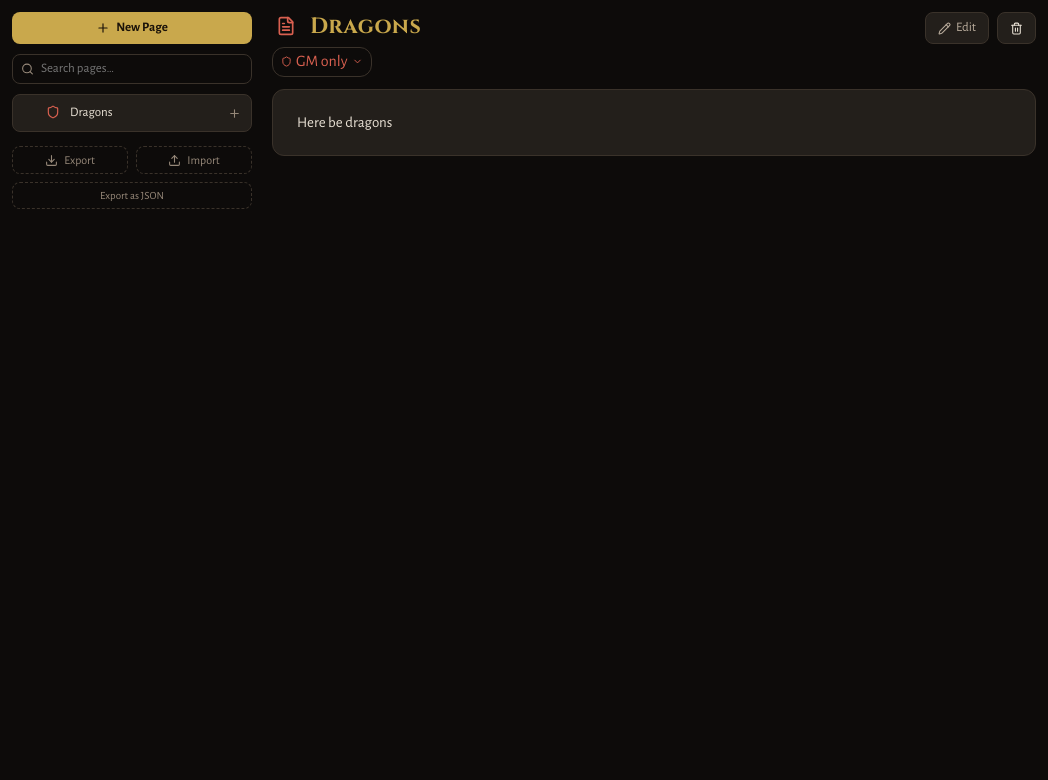
WikiView markdown formatting toolbar › wraps the selection in bold markers when the Bold button is clicked
This screenshot has width=1048, height=780.
Expected: the text "Here be dragons" is shown, [297, 115, 392, 130]
Click the button "Edit" at (957, 28), box [925, 12, 989, 44]
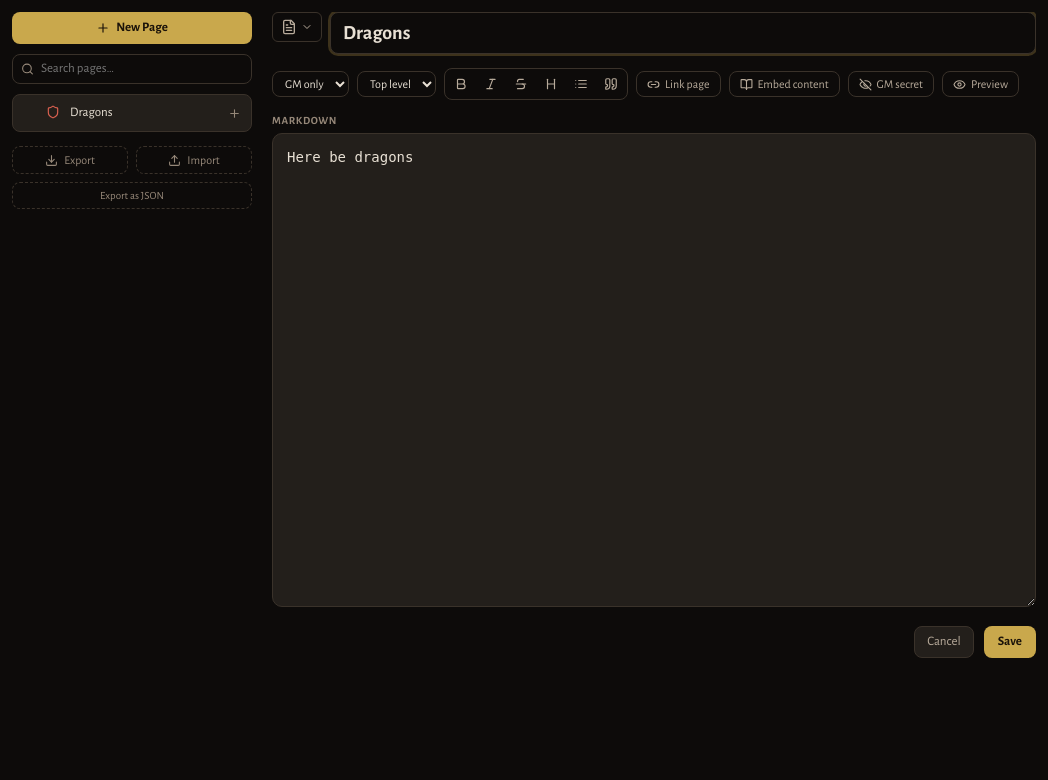
Click the button named "Bold" at (461, 84), box [447, 71, 475, 97]
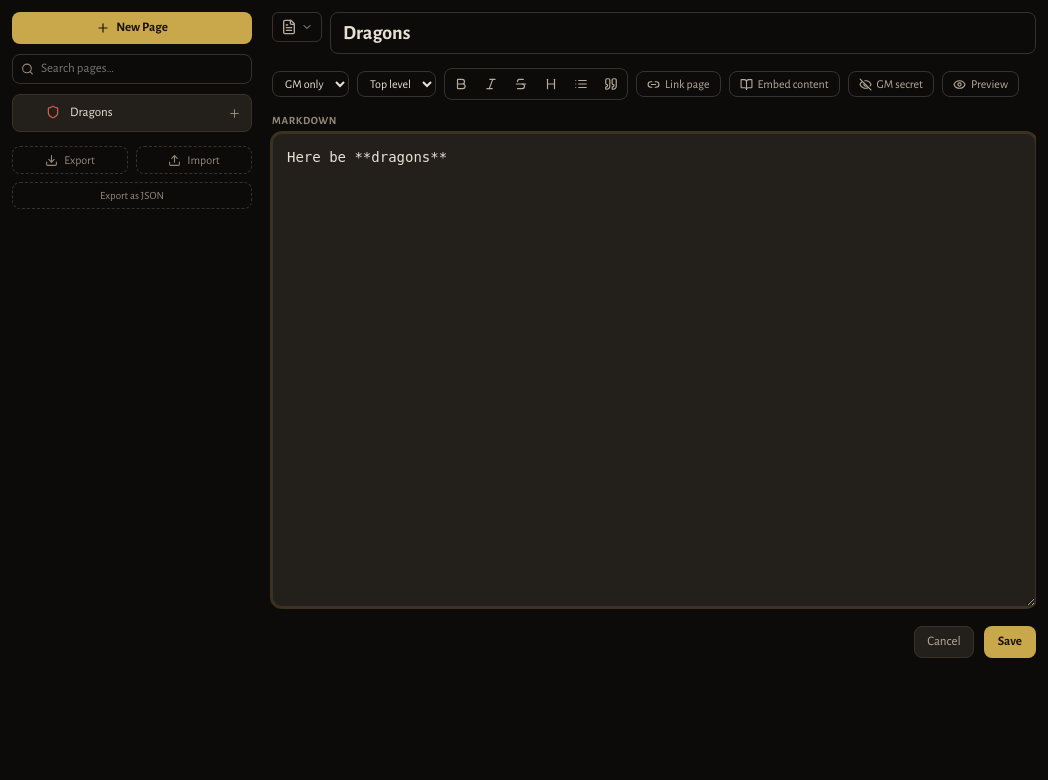
Result: the text box named "Markdown" holds "Here be **dragons**" at [272, 133, 1036, 607]
